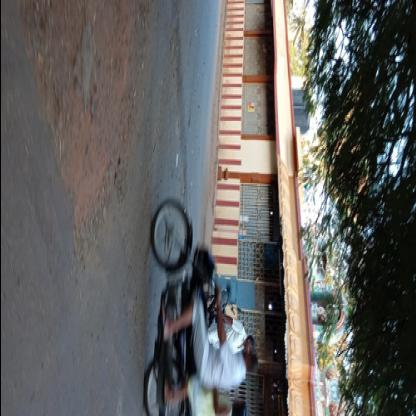speed-bumps: (163, 0, 199, 208)
